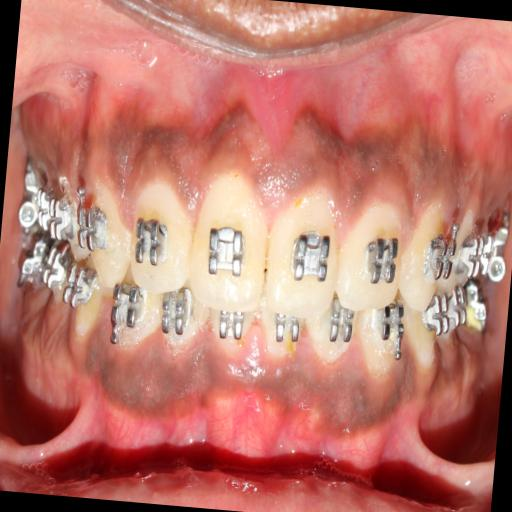correct_brace: (200, 216, 254, 284), (286, 228, 336, 292), (362, 225, 404, 291), (70, 198, 110, 266), (133, 212, 169, 268), (425, 226, 456, 291)
incorrect_brace: (125, 180, 198, 290), (335, 200, 405, 312)
